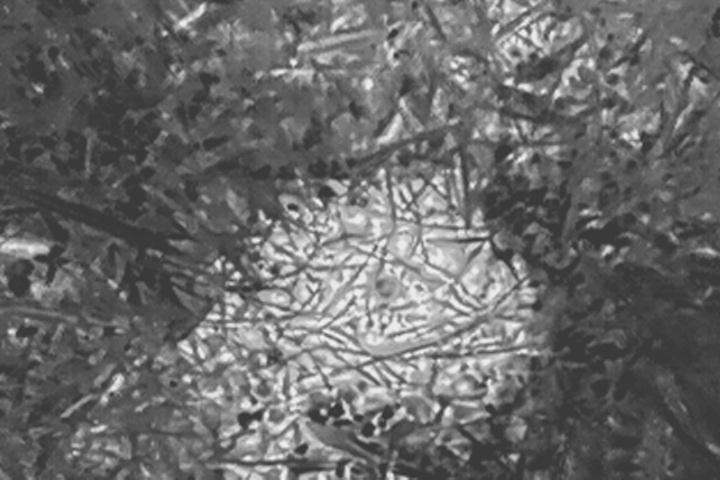landmine: (270, 176, 535, 427)
